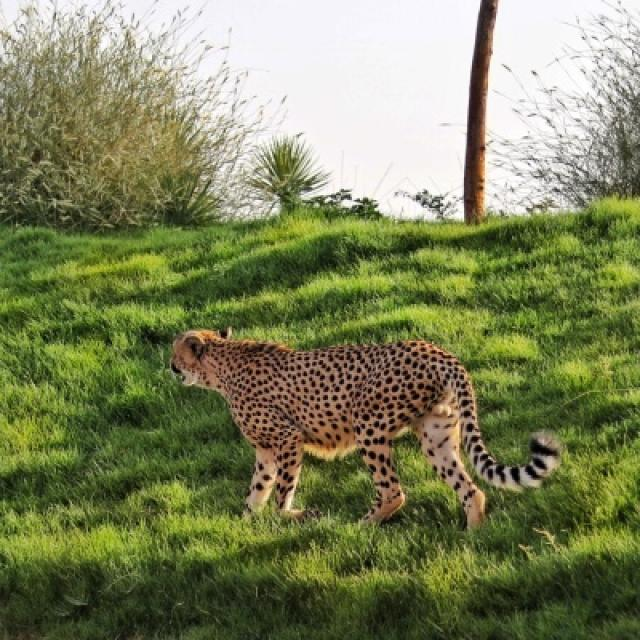Cheetah: (171, 328, 558, 525)
